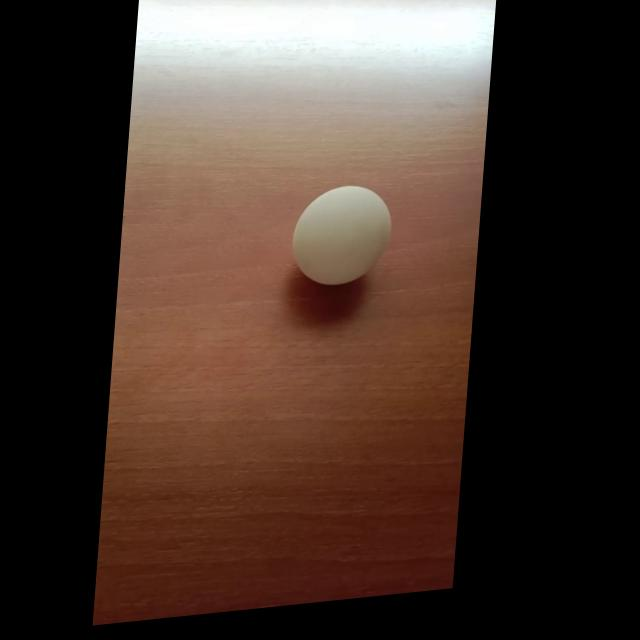white ball: (288, 179, 396, 290)
